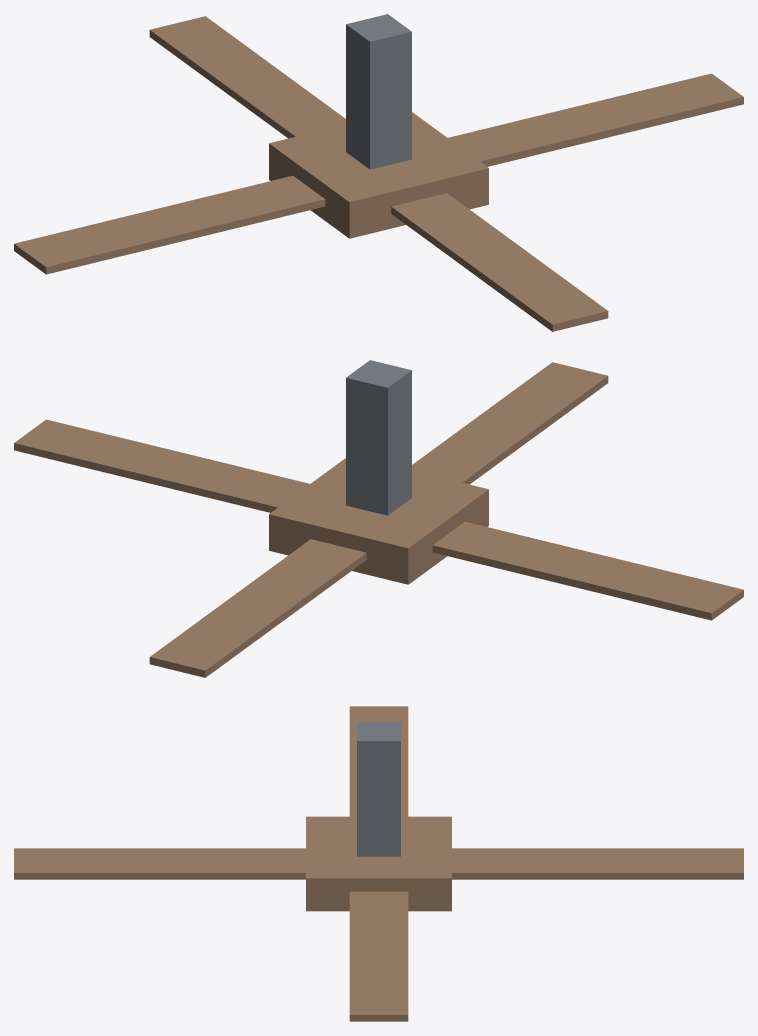
File: ceiling_fan.glb
3 renders of one model, top to bottom at view 1: azimuth 30°, elevation 25°; view 2: azimuth 150°, elevation 25°; view 3: azimuth 270°, elevation 25°, orthographic. The views are drawn at different scales.
Visible parts, largest first — view 1: Fan_Blades, Fan_Mount; view 2: Fan_Blades, Fan_Mount; view 3: Fan_Blades, Fan_Mount.
Part boxes in pixels (bbox=[...]): Fan_Blades: bbox=[14, 16, 743, 331]; Fan_Mount: bbox=[346, 14, 411, 169]; Fan_Blades: bbox=[14, 362, 743, 677]; Fan_Mount: bbox=[346, 360, 411, 515]; Fan_Blades: bbox=[14, 706, 743, 1021]; Fan_Mount: bbox=[357, 722, 400, 856].
Bounding box in the file's own units: 2 × 0.45 × 2.
